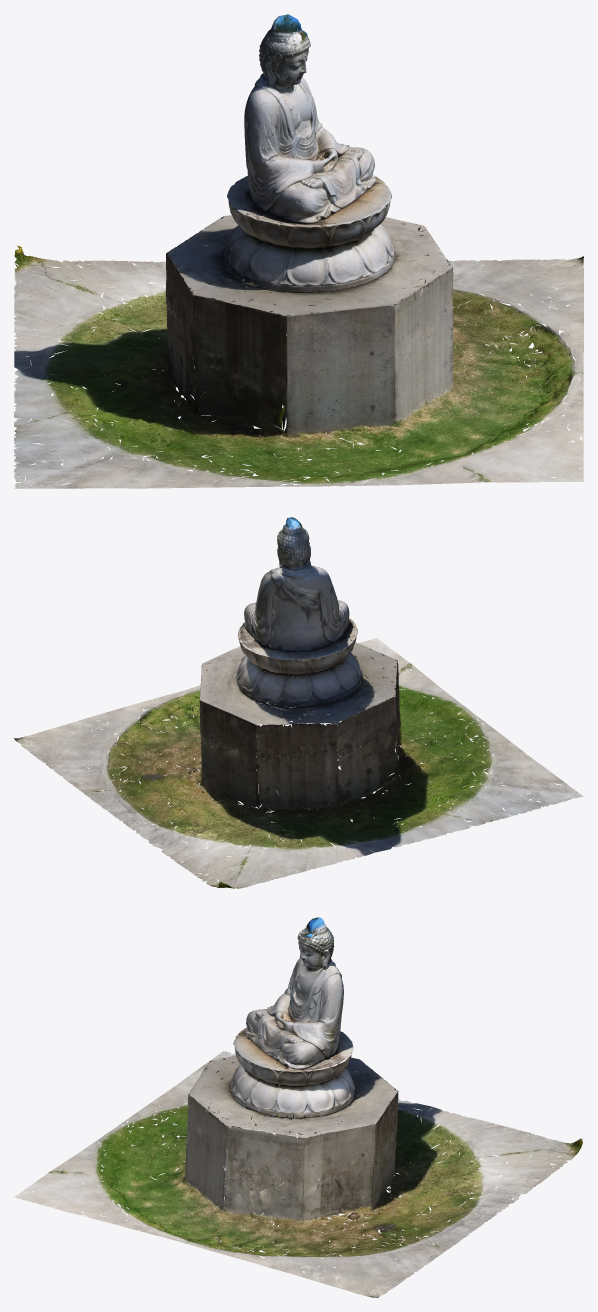
File: phatda.glb
3 views of the same model, one above another, from view 1: azimuth 30°, elevation 25°; view 2: azimuth 150°, elevation 25°; view 3: azimuth 270°, elevation 25° (orthographic). The views are drawn at different scales.
Visible parts, largest first — view 1: Model; view 2: Model; view 3: Model.
Boxes of the visible parts, x1=… form: Model: x1=14, y1=14, x2=583, y2=488; Model: x1=14, y1=517, x2=583, y2=888; Model: x1=14, y1=917, x2=582, y2=1297.
Bounding box in the file's own units: 24.37 × 12.52 × 24.37.
Materials: 12 (12 with a texture image).
